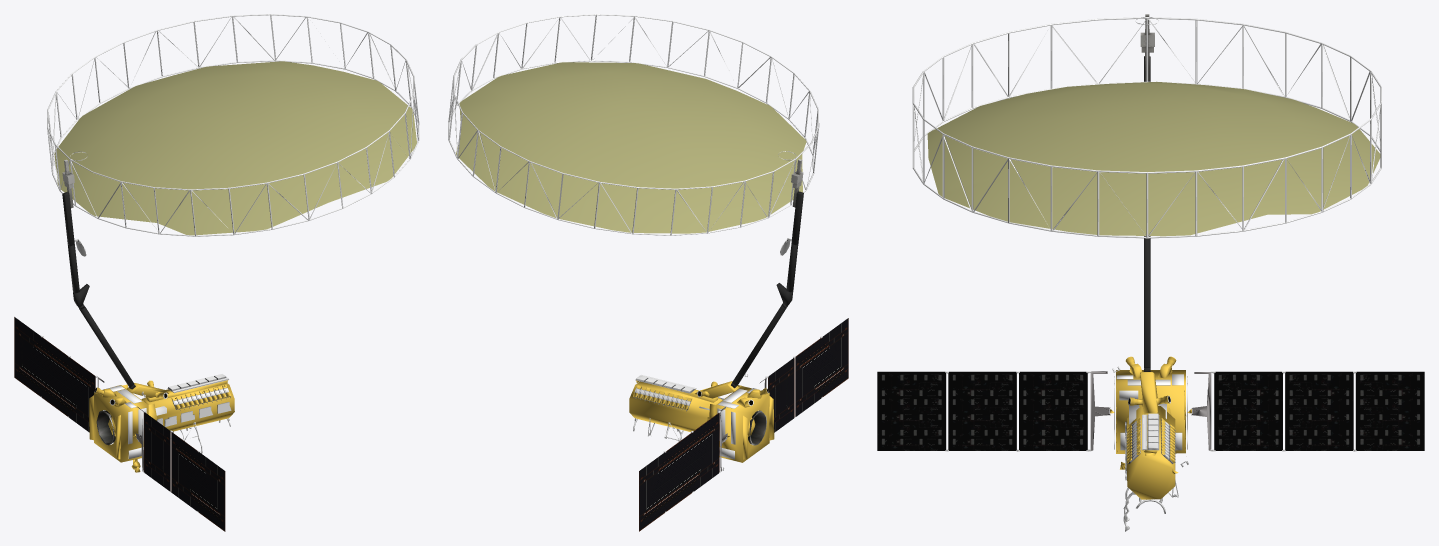
File: india_nisar.glb
3 renders of one model, left to right at view 1: azimuth 30°, elevation 25°; view 2: azimuth 150°, elevation 25°; view 3: azimuth 270°, elevation 25°, orthographic. The views are drawn at different scales.
Bounding box in the file's own units: 13.04 × 13.96 × 14.29.
12 materials, 4 textured.
